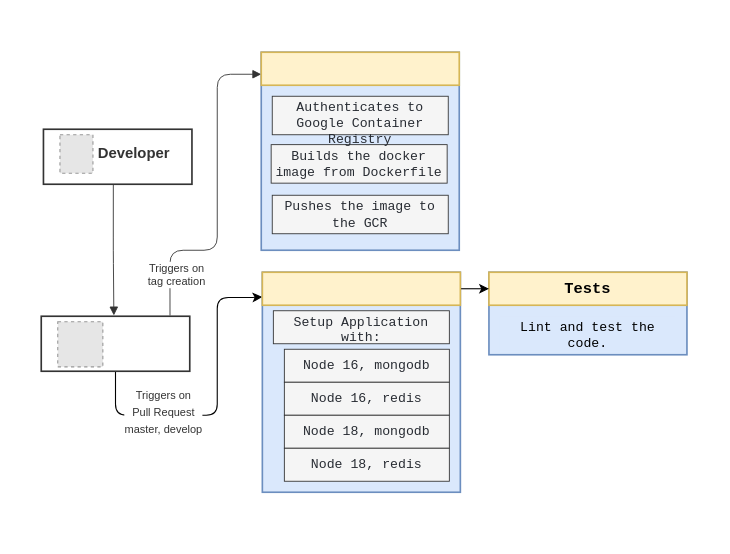
Image size: 730x554. Some labels were removed from this diagram. Grey dashed boxes stand in for pictures. The shapes that lost their labels are listed below. From the top down, each one's box as (x1, y1, x2, y2) in pixels, then its label:
(260, 51, 460, 86): 🐋 Build and Push
(92, 153, 176, 185): Writes Code
(261, 271, 461, 306): CI
(84, 324, 196, 364): Code Repository
